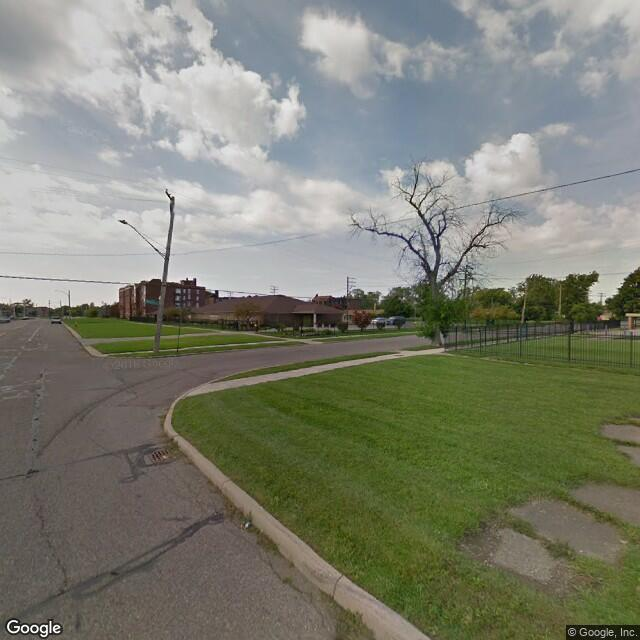litter: (244, 521, 250, 531), (162, 454, 172, 460)
